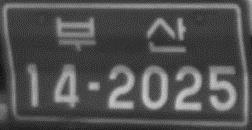-: (83, 78, 104, 93)
0: (140, 62, 170, 111)
1: (24, 58, 42, 110)
2: (173, 64, 205, 113), (106, 62, 137, 112)
4: (51, 62, 81, 110)
5: (205, 63, 238, 112)
부산_D: (53, 13, 188, 56)
